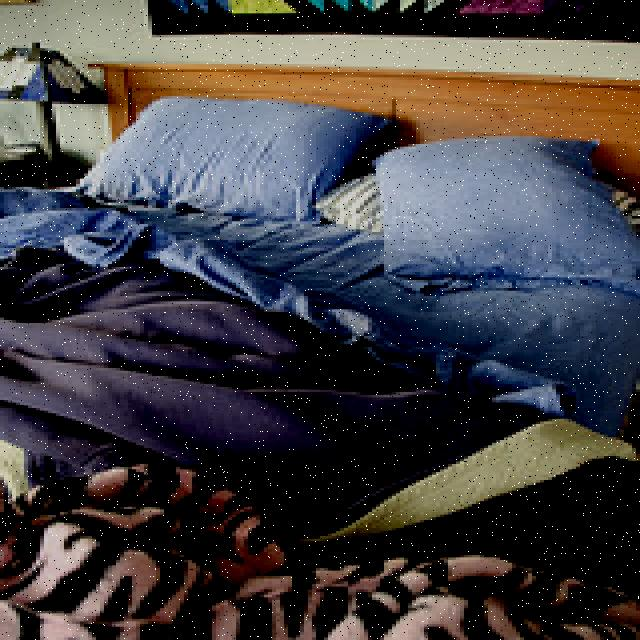bed: (0, 71, 632, 612)
